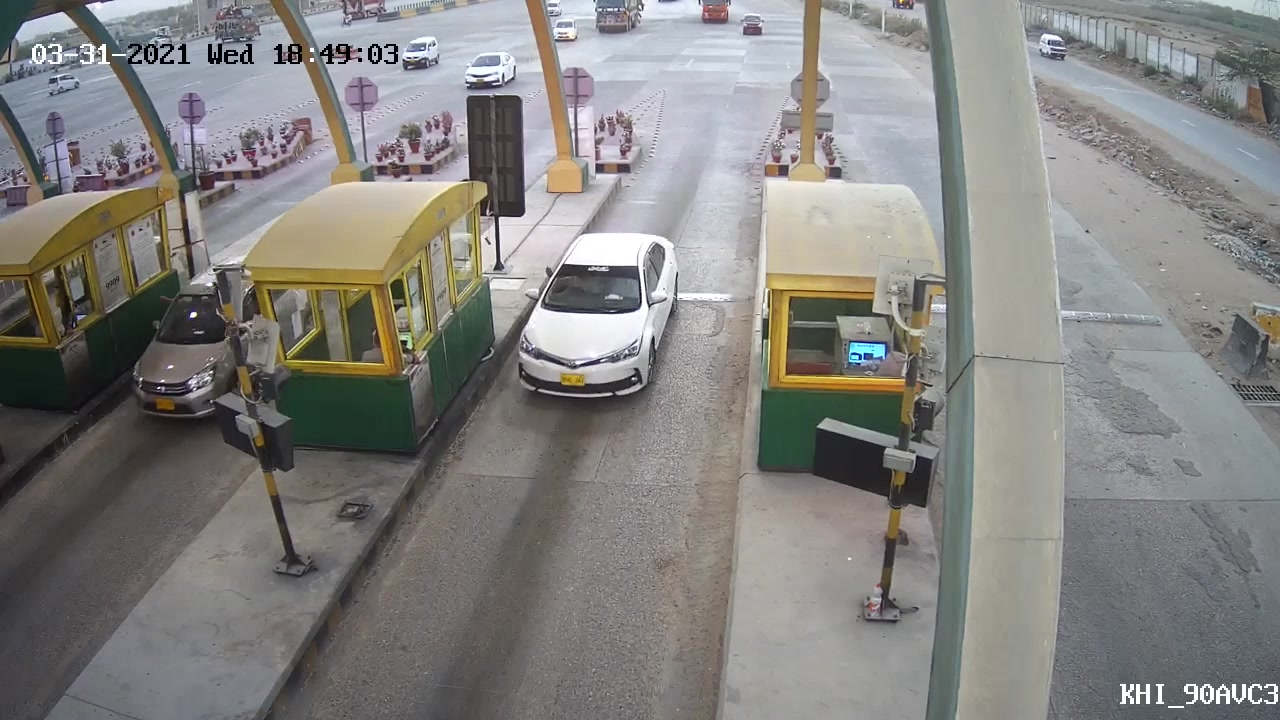F1: (511, 222, 689, 409)
